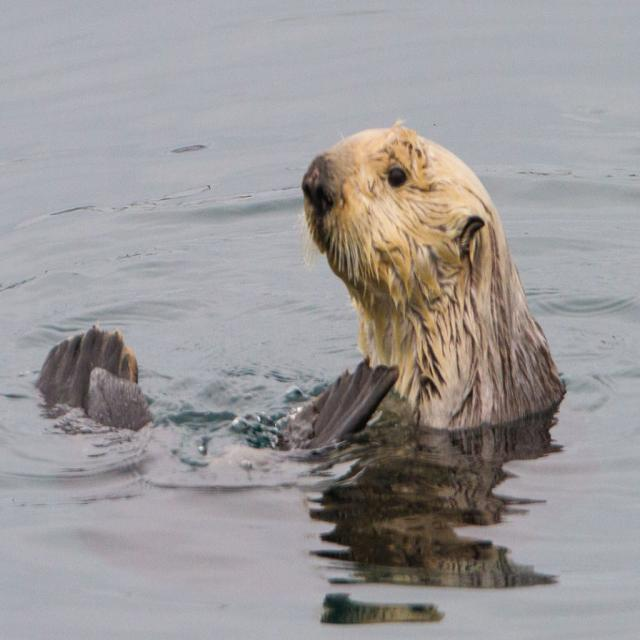otter: (303, 129, 562, 431)
